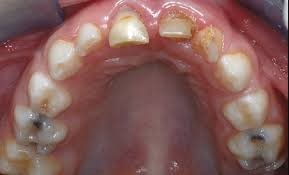UL1BC_healthy: (229, 93, 272, 130)
UL2BC_decay: (231, 129, 287, 168)
ULCI_decay: (160, 9, 196, 45)
ULC_healthy: (218, 54, 253, 93)
ULLI_decay: (196, 26, 224, 63)
UR1BC_decay: (24, 75, 72, 114)
UR2BC_decay: (12, 107, 69, 151)
URCI_decay: (110, 7, 150, 46)
URC_healthy: (47, 40, 83, 78)
URLI_healthy: (79, 25, 106, 56)
